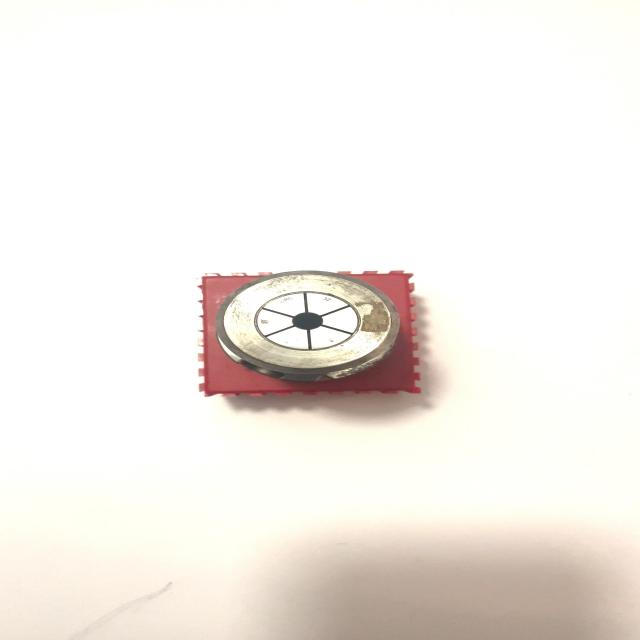Filled_Slot: (215, 271, 399, 382)
